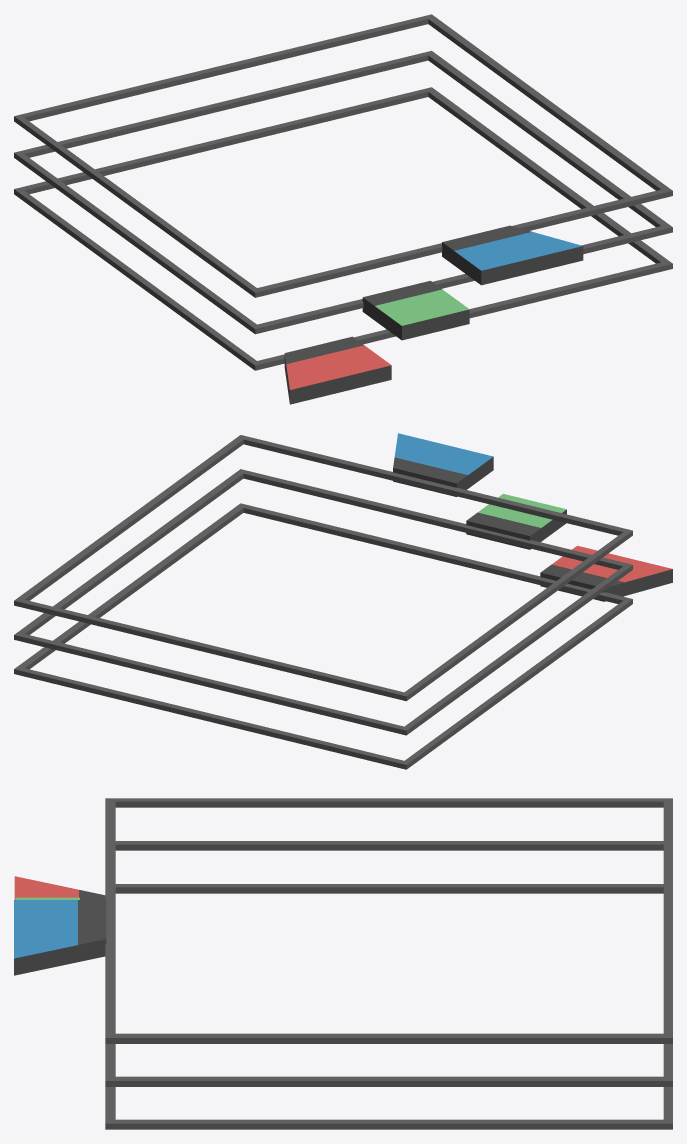
The model's file is rotpazzle.fbx.
The picture shows the model from 3 angles, top to bottom: view 1: azimuth 30°, elevation 25°; view 2: azimuth 150°, elevation 25°; view 3: azimuth 270°, elevation 25°; orthographic projection. The views are drawn at different scales.
Parts seen in each view (by area): view 1: Frame.Blue, Frame_Red, Frame.Green, Blue, Red, Green; view 2: Frame.Blue, Frame.Green, Frame_Red, Blue, Red, Green; view 3: Frame.Blue, Frame.Green, Frame_Red, Blue, Red.
Boxes of the visible parts, x1,y1,x2,y2 form: Frame.Blue: (14, 14, 672, 297); Frame_Red: (14, 87, 672, 370); Frame.Green: (14, 50, 672, 334); Blue: (442, 225, 583, 285); Red: (284, 336, 391, 404); Green: (362, 280, 469, 340); Frame.Blue: (14, 435, 632, 701); Frame.Green: (14, 469, 632, 735); Frame_Red: (14, 503, 632, 769); Blue: (393, 433, 493, 496); Red: (540, 545, 672, 601); Green: (466, 493, 566, 549); Frame.Blue: (105, 798, 672, 1043); Frame.Green: (105, 841, 672, 1086); Frame_Red: (105, 884, 672, 1129); Blue: (14, 900, 106, 975); Red: (14, 876, 105, 899).
Bounding box in the file's own units: 606 × 120 × 697.
